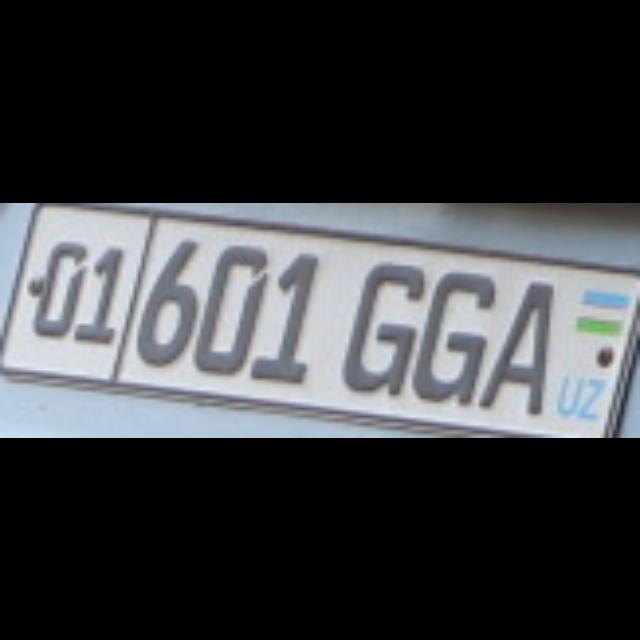0: (192, 241, 264, 371), (28, 237, 82, 331)
1: (248, 249, 314, 379), (70, 241, 118, 339)
6: (134, 237, 196, 363)
A: (470, 272, 550, 410)
G: (338, 258, 420, 390), (409, 266, 491, 398)
